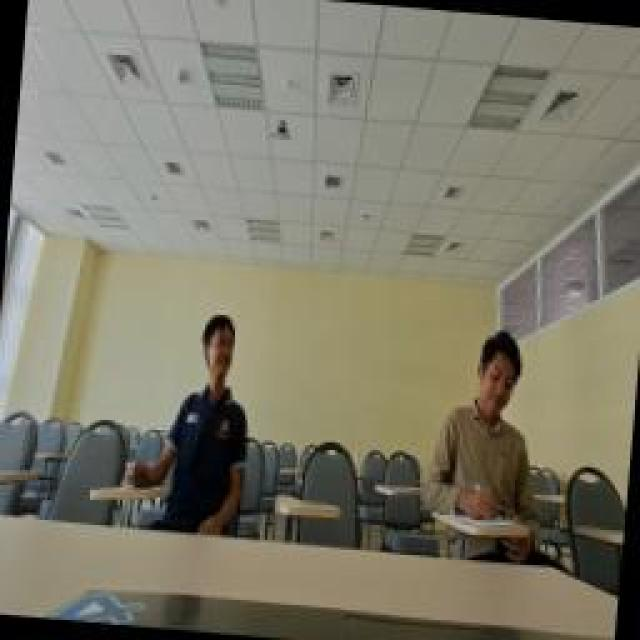study: (415, 320, 547, 525), (155, 308, 263, 500)
